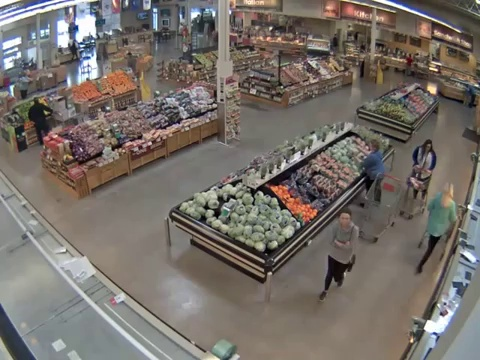face: (340, 214, 350, 227), (424, 141, 432, 153)
